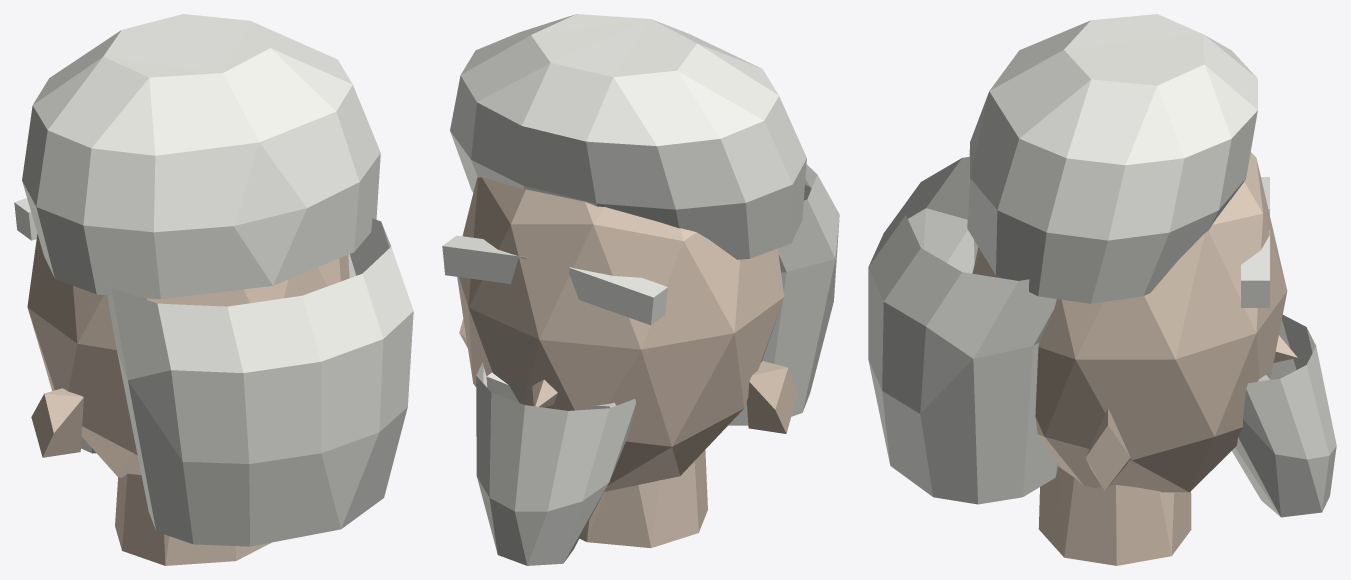
File: 19-NPCs_cabeza_alargada.glb
3 renders of one model, left to right at view 1: azimuth 30°, elevation 25°; view 2: azimuth 150°, elevation 25°; view 3: azimuth 270°, elevation 25°, orthographic.
Visible parts, largest first — view 1: SM_Cab_M_CabB_Cabello, SM_Cab_M_CabB_Piel; view 2: SM_Cab_M_CabB_Cabello, SM_Cab_M_CabB_Piel; view 3: SM_Cab_M_CabB_Cabello, SM_Cab_M_CabB_Piel.
Boxes of the visible parts, <box> form: SM_Cab_M_CabB_Cabello: <box>14,14,413,546</box>; SM_Cab_M_CabB_Piel: <box>27,234,349,565</box>; SM_Cab_M_CabB_Cabello: <box>442,14,839,565</box>; SM_Cab_M_CabB_Piel: <box>457,177,797,547</box>; SM_Cab_M_CabB_Cabello: <box>868,14,1336,517</box>; SM_Cab_M_CabB_Piel: <box>972,152,1297,565</box>.
Size of the model in its own units: 0.264 by 0.3663 by 0.3242.
